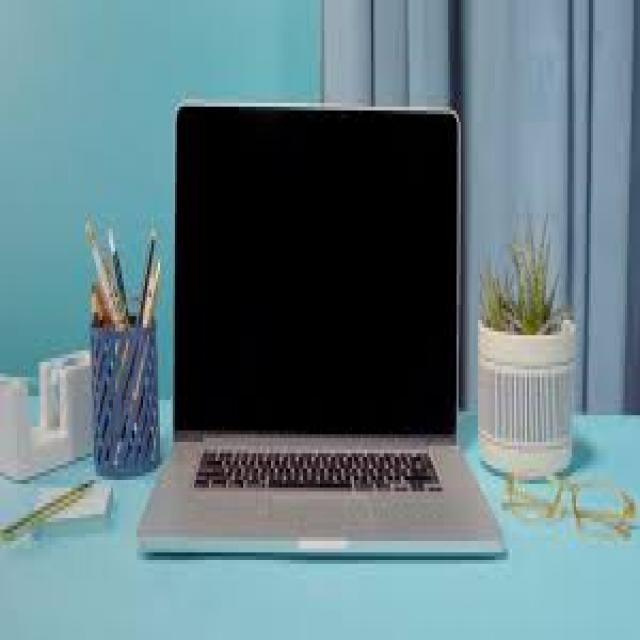others: (123, 69, 506, 572)
